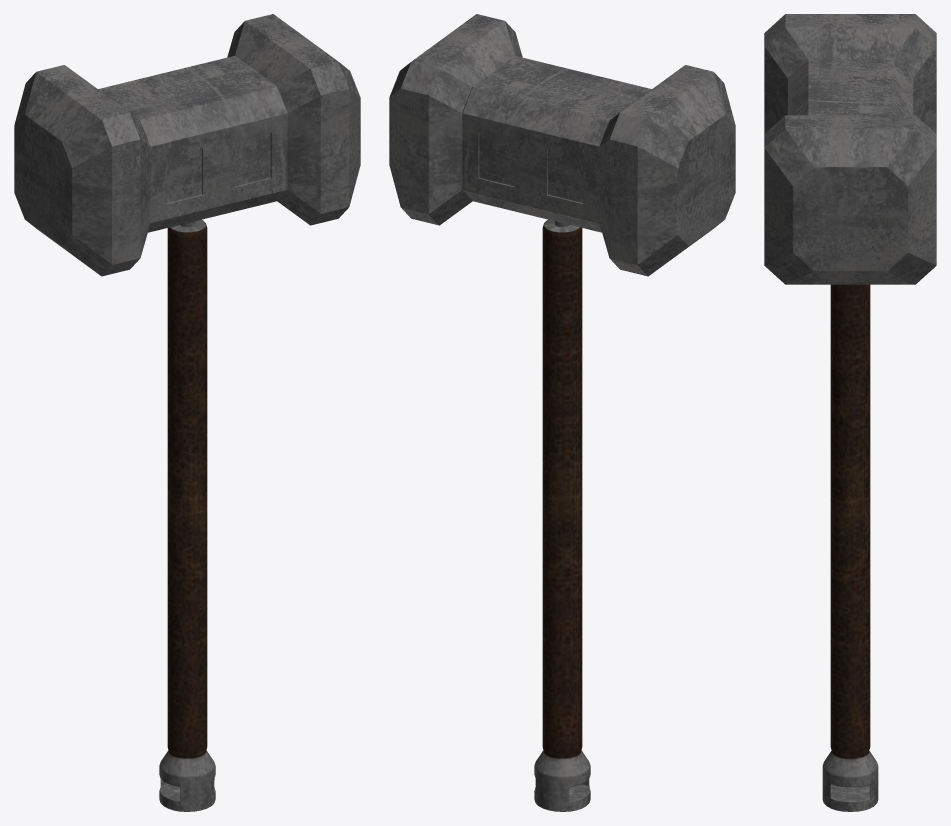
The model's file is hammer-3000-v1.glb.
3 renders of one model, left to right at view 1: azimuth 30°, elevation 25°; view 2: azimuth 150°, elevation 25°; view 3: azimuth 270°, elevation 25°, orthographic.
Visible parts, largest first — view 1: hammer-3000-v1; view 2: hammer-3000-v1; view 3: hammer-3000-v1.
Boxes of the visible parts, <box> form: hammer-3000-v1: <box>14,14,360,811</box>; hammer-3000-v1: <box>389,14,735,811</box>; hammer-3000-v1: <box>764,14,936,811</box>.
Bounding box in the file's own units: 0.2373 × 0.5762 × 0.1233.
1 material, 1 textured.
